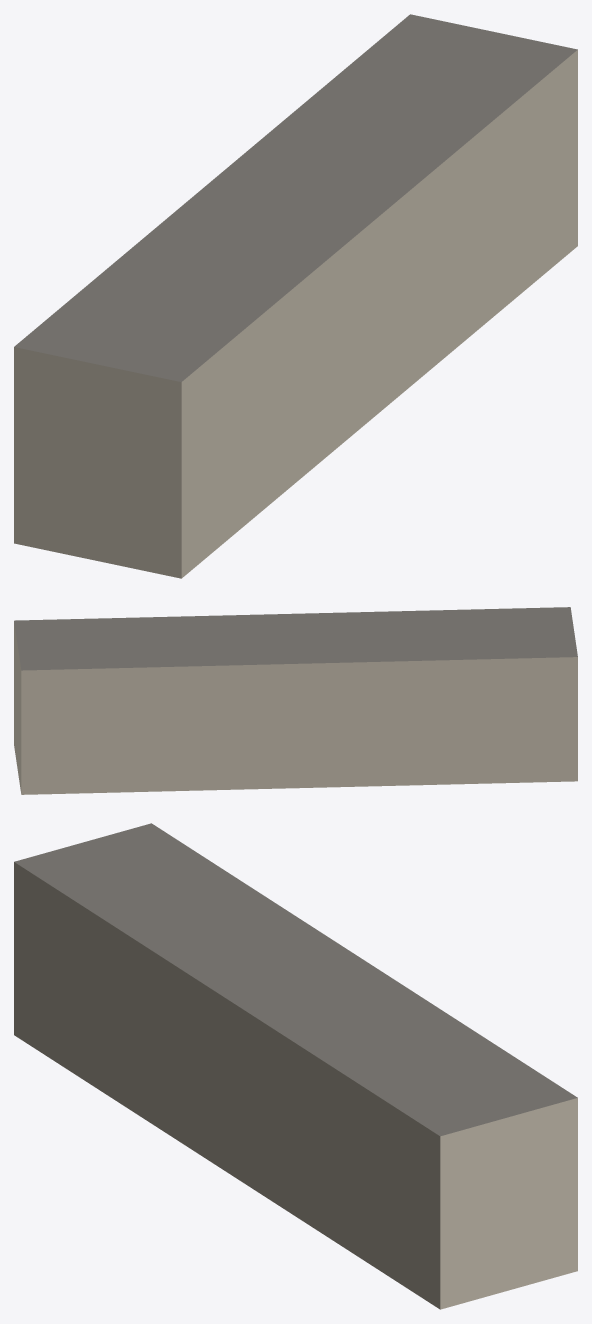
3 renders of one model, top to bottom at view 1: azimuth 30°, elevation 25°; view 2: azimuth 150°, elevation 25°; view 3: azimuth 270°, elevation 25°, orthographic. The views are drawn at different scales.
Visible parts, largest first — view 1: HP-w1289027553; view 2: HP-w1289027553; view 3: HP-w1289027553.
Part boxes in pixels (<box>): HP-w1289027553: <box>14,14,577,578</box>; HP-w1289027553: <box>14,607,577,794</box>; HP-w1289027553: <box>14,823,577,1309</box>.
Bounding box in the file's own units: 69.74 × 18 × 53.09.
